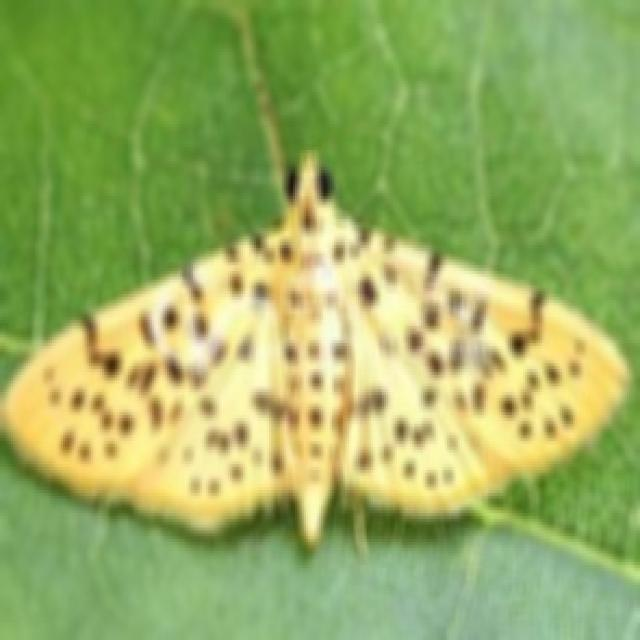peach borer: (3, 139, 637, 566)
